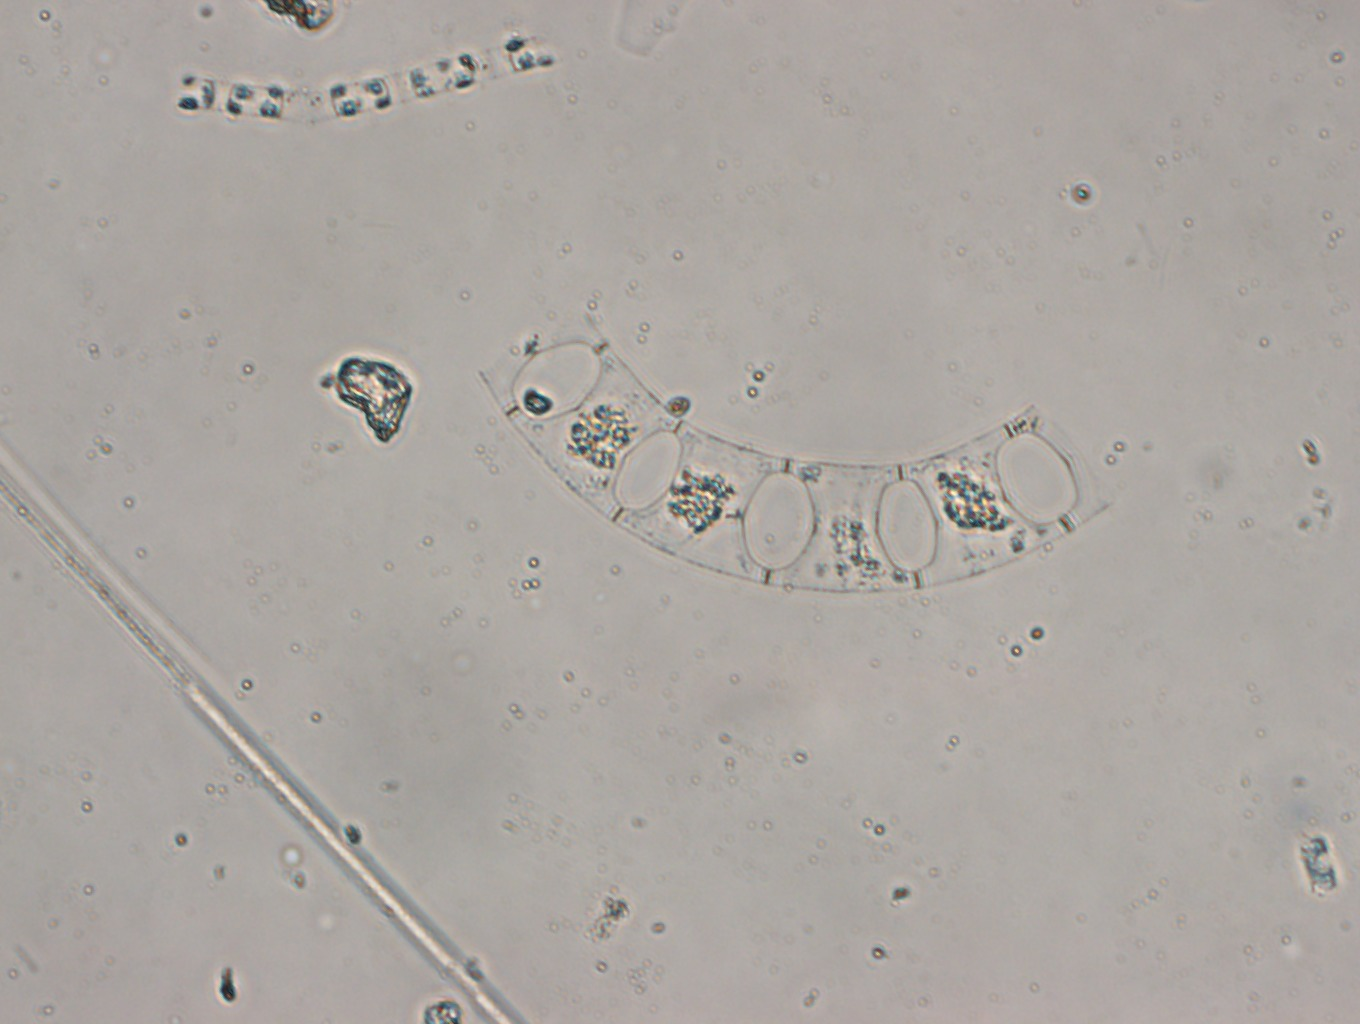eucampia: (479, 310, 1129, 600)
skeletonema: (164, 30, 555, 127)
